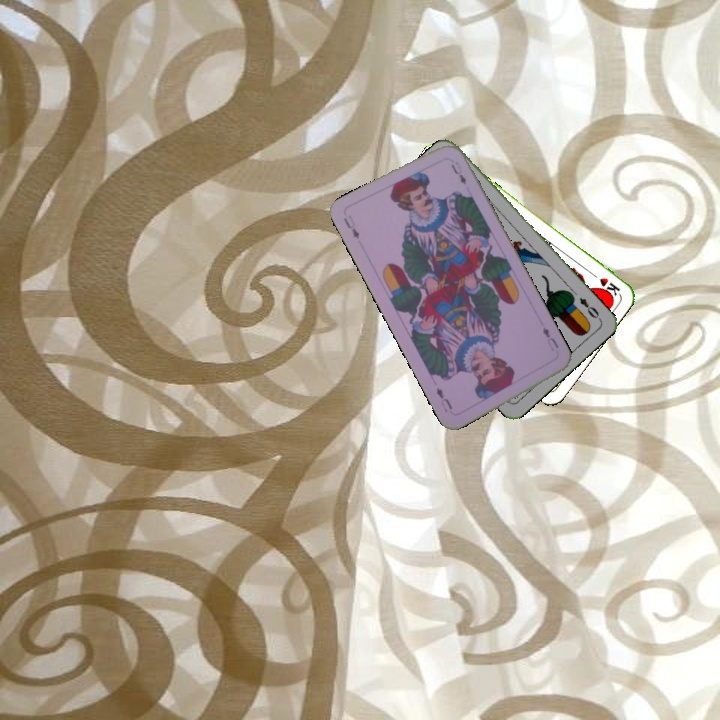EO: (575, 293, 601, 321)
EU: (538, 323, 561, 354), (339, 211, 362, 241)
HK: (586, 267, 622, 299)
